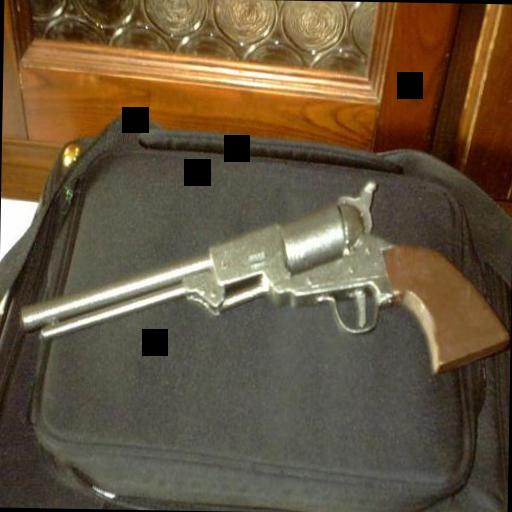Handgun: (8, 172, 510, 406)
